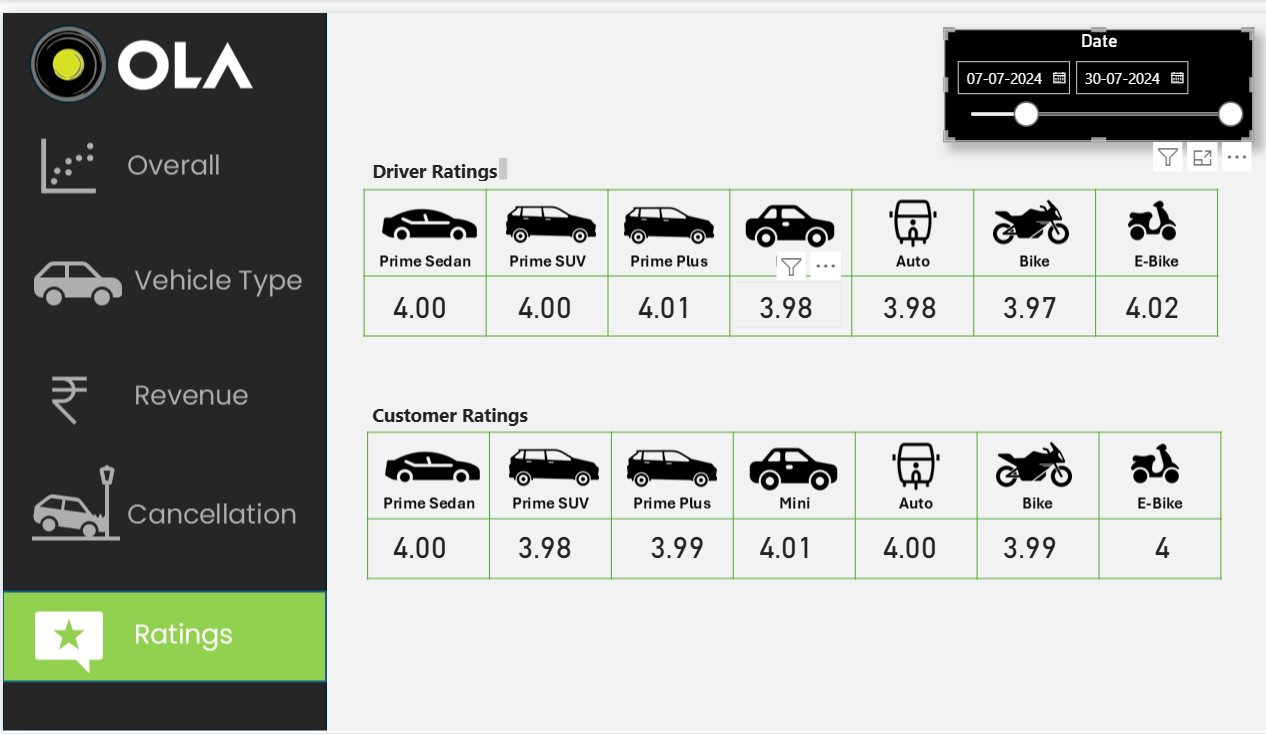

The dashboard page shown, as its layout file describes it:
{"tool":"powerbi","page":{"name":"Page 5","canvas":[1280,720],"ordinal":4},"visuals":[{"type":"actionButton","box":[0,220,322.9,95.7],"z":0},{"type":"actionButton","box":[0,105.7,322.9,95.7],"z":1000},{"type":"actionButton","box":[0,220,322.9,95.7],"z":2000},{"type":"actionButton","box":[0,335.7,322.9,95.7],"z":3000},{"type":"actionButton","box":[0,447.1,322.9,95.7],"z":4000},{"type":"card","fields":{"Values":["Avg(July.Driver_Ratings)"]},"box":[362.4,268.1,109,47.1],"z":5000},{"type":"card","fields":{"Values":["Avg(July.Driver_Ratings)"]},"box":[487.7,268.1,109,47.1],"z":6000},{"type":"card","fields":{"Values":["Avg(July.Driver_Ratings)"]},"box":[607,268.1,109,47.1],"z":7000},{"type":"card","fields":{"Values":["Avg(July.Driver_Ratings)"]},"box":[729.3,268.1,109,47.1],"z":8000},{"type":"card","fields":{"Values":["Avg(July.Driver_Ratings)"]},"box":[853,268.1,109,47.1],"z":9000},{"type":"card","fields":{"Values":["Avg(July.Driver_Ratings)"]},"box":[972.4,268.1,109,47.1],"z":10000},{"type":"card","fields":{"Values":["Avg(July.Driver_Ratings)"]},"box":[1094.7,268.1,109,47.1],"z":11000},{"type":"card","fields":{"Values":["Avg(July.Customer_Rating)"]},"box":[362.4,508.3,109,47.1],"z":12000},{"type":"card","fields":{"Values":["Avg(July.Customer_Rating)"]},"box":[487.7,508.3,109,47.1],"z":13000},{"type":"card","fields":{"Values":["Avg(July.Customer_Rating)"]},"box":[620.3,508.3,109,47.1],"z":14000},{"type":"card","fields":{"Values":["Avg(July.Customer_Rating)"]},"box":[729.3,508.3,109,47.1],"z":15000},{"type":"card","fields":{"Values":["Avg(July.Customer_Rating)"]},"box":[853,508.3,109,47.1],"z":16000},{"type":"card","fields":{"Values":["Avg(July.Customer_Rating)"]},"box":[972.4,508.3,109,47.1],"z":17000},{"type":"card","fields":{"Values":["Avg(July.Customer_Rating)"]},"box":[1105,508.3,109,47.1],"z":18000},{"type":"textbox","box":[363,139.5,146.9,33.3],"z":19000},{"type":"textbox","box":[353.1,384,188.9,35.8],"z":19001},{"type":"slicer","title":"Date","fields":{"Values":["July.Date"]},"box":[940.7,16,308.6,112.3],"z":19002}]}

Visuals, with their boxes in screenshot pixels (x1, y1, x2, y2), scaled from the page's 1280x720 canvas onto the 1266x734 screenshot:
actionButton: bbox=[0, 224, 319, 322]
actionButton: bbox=[0, 108, 319, 205]
actionButton: bbox=[0, 224, 319, 322]
actionButton: bbox=[0, 342, 319, 440]
actionButton: bbox=[0, 456, 319, 553]
card - Avg(July.Driver_Ratings): bbox=[358, 273, 466, 321]
card - Avg(July.Driver_Ratings): bbox=[482, 273, 590, 321]
card - Avg(July.Driver_Ratings): bbox=[600, 273, 708, 321]
card - Avg(July.Driver_Ratings): bbox=[721, 273, 829, 321]
card - Avg(July.Driver_Ratings): bbox=[844, 273, 951, 321]
card - Avg(July.Driver_Ratings): bbox=[962, 273, 1070, 321]
card - Avg(July.Driver_Ratings): bbox=[1083, 273, 1191, 321]
card - Avg(July.Customer_Rating): bbox=[358, 518, 466, 566]
card - Avg(July.Customer_Rating): bbox=[482, 518, 590, 566]
card - Avg(July.Customer_Rating): bbox=[614, 518, 721, 566]
card - Avg(July.Customer_Rating): bbox=[721, 518, 829, 566]
card - Avg(July.Customer_Rating): bbox=[844, 518, 951, 566]
card - Avg(July.Customer_Rating): bbox=[962, 518, 1070, 566]
card - Avg(July.Customer_Rating): bbox=[1093, 518, 1201, 566]
textbox: bbox=[359, 142, 504, 176]
textbox: bbox=[349, 391, 536, 428]
"Date" slicer: bbox=[930, 16, 1236, 131]
